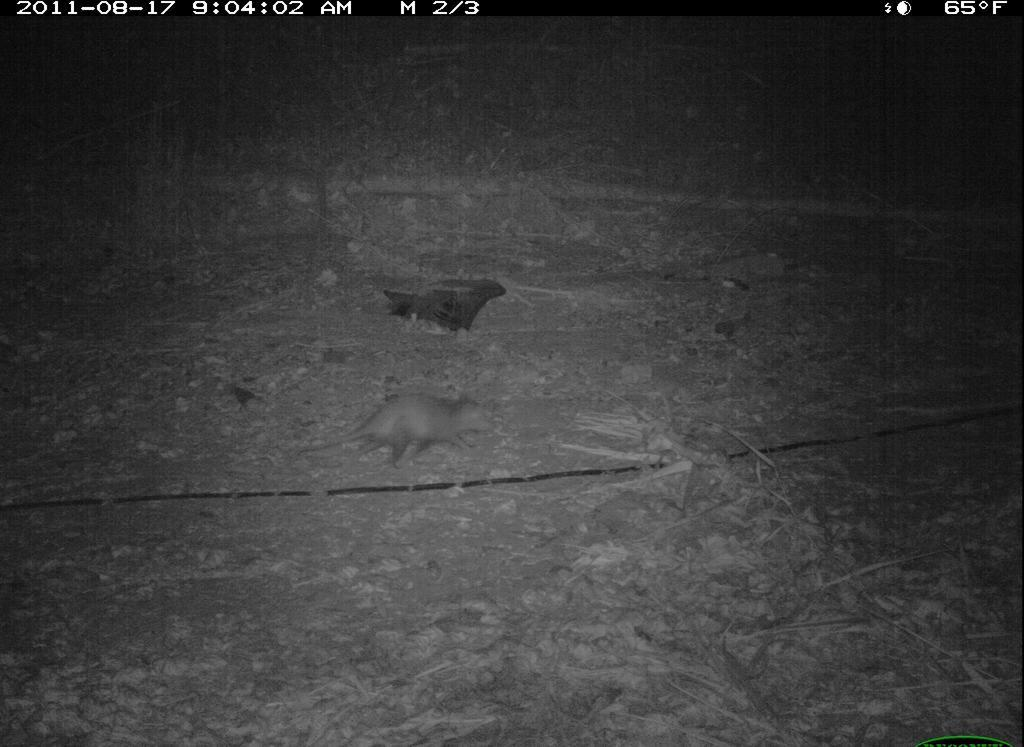opossum: (304, 388, 504, 475)
